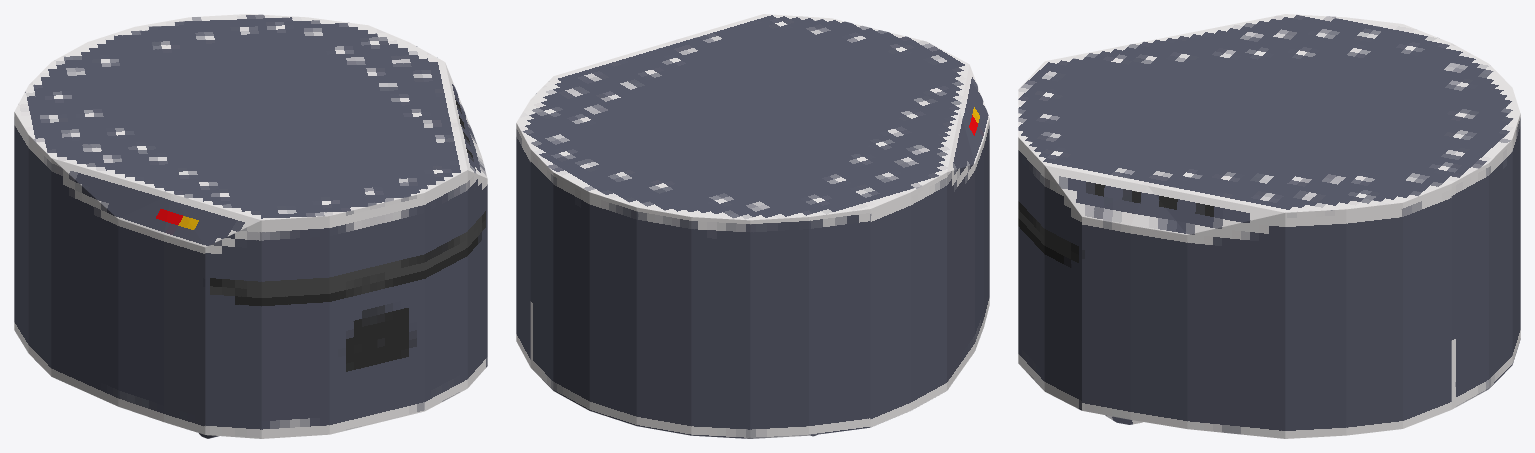
Rendered from Fetch.glb.
The picture shows the model from 3 angles, left to right: view 1: azimuth 30°, elevation 25°; view 2: azimuth 150°, elevation 25°; view 3: azimuth 270°, elevation 25°; orthographic projection. The views are drawn at different scales.
Parts seen in each view (by area): view 1: Fetch_Robot; view 2: Fetch_Robot; view 3: Fetch_Robot.
Part boxes in pixels (x1,y1,x2,y2): Fetch_Robot: (14,14,487,438); Fetch_Robot: (516,14,989,438); Fetch_Robot: (1018,14,1520,438).
Bounding box in the file's own units: 0.636 × 0.3732 × 0.6789.
1 material, 1 textured.
